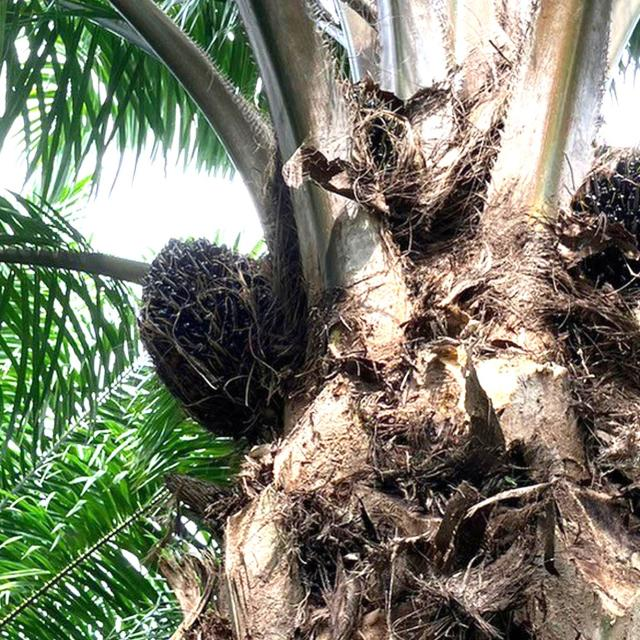almost: (130, 233, 312, 444)
